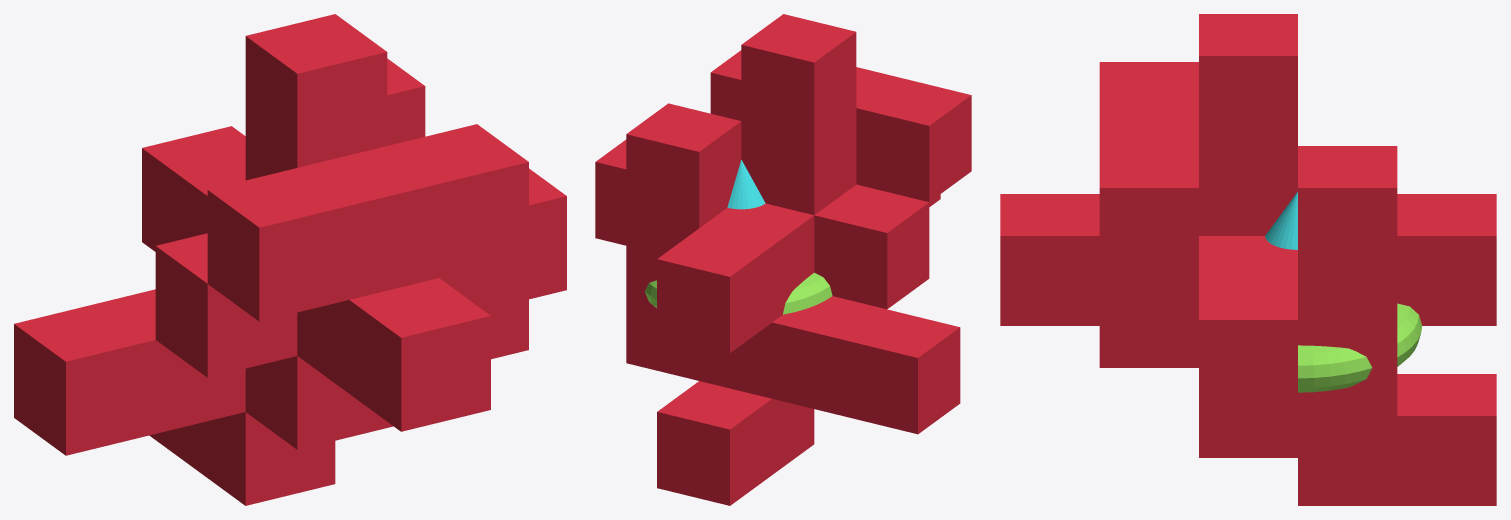
Rendered from random.fbx.
3 views of the same model, side by side, from view 1: azimuth 30°, elevation 25°; view 2: azimuth 150°, elevation 25°; view 3: azimuth 270°, elevation 25° (orthographic). The views are drawn at different scales.
Visible parts, largest first — view 1: Cube; view 2: Cube, Torus, Cone; view 3: Cube, Torus, Cone.
Boxes of the visible parts, x1,y1,x2,y2 form: Cube: [14, 14, 566, 505]; Cube: [595, 14, 971, 505]; Torus: [644, 272, 832, 314]; Cone: [727, 160, 765, 209]; Cube: [1000, 14, 1496, 505]; Torus: [1298, 303, 1422, 392]; Cone: [1265, 191, 1297, 249].
Bounding box in the file's own units: 500 × 500 × 500.
